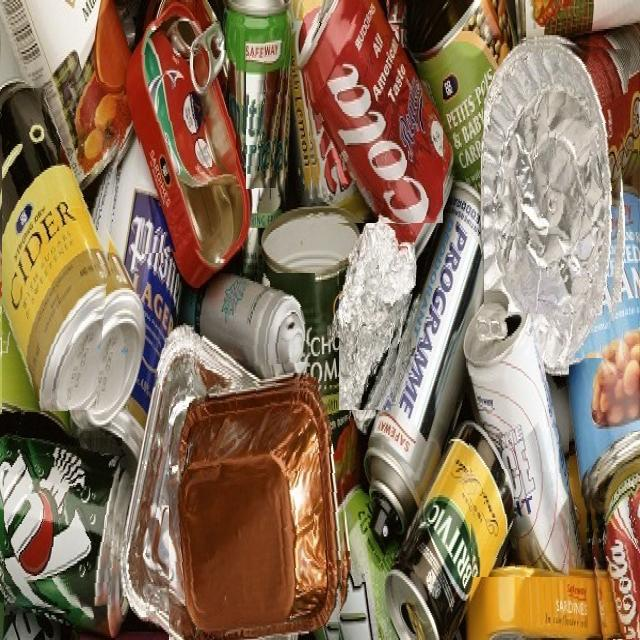Cans: (169, 377, 352, 640), (484, 36, 631, 358), (2, 82, 125, 414), (304, 13, 444, 224), (466, 308, 569, 577), (138, 21, 236, 254), (4, 438, 123, 617), (583, 431, 640, 640), (339, 240, 408, 410), (200, 274, 316, 372), (246, 0, 291, 189)
